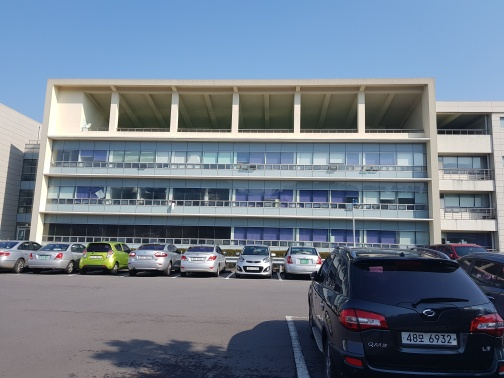Engineering College Building 4: (40, 72, 435, 240), (437, 101, 501, 237)
